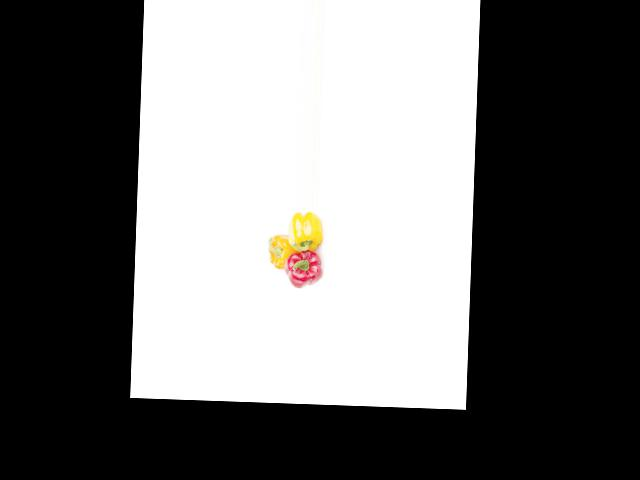bell_pepper: (286, 211, 326, 250)
